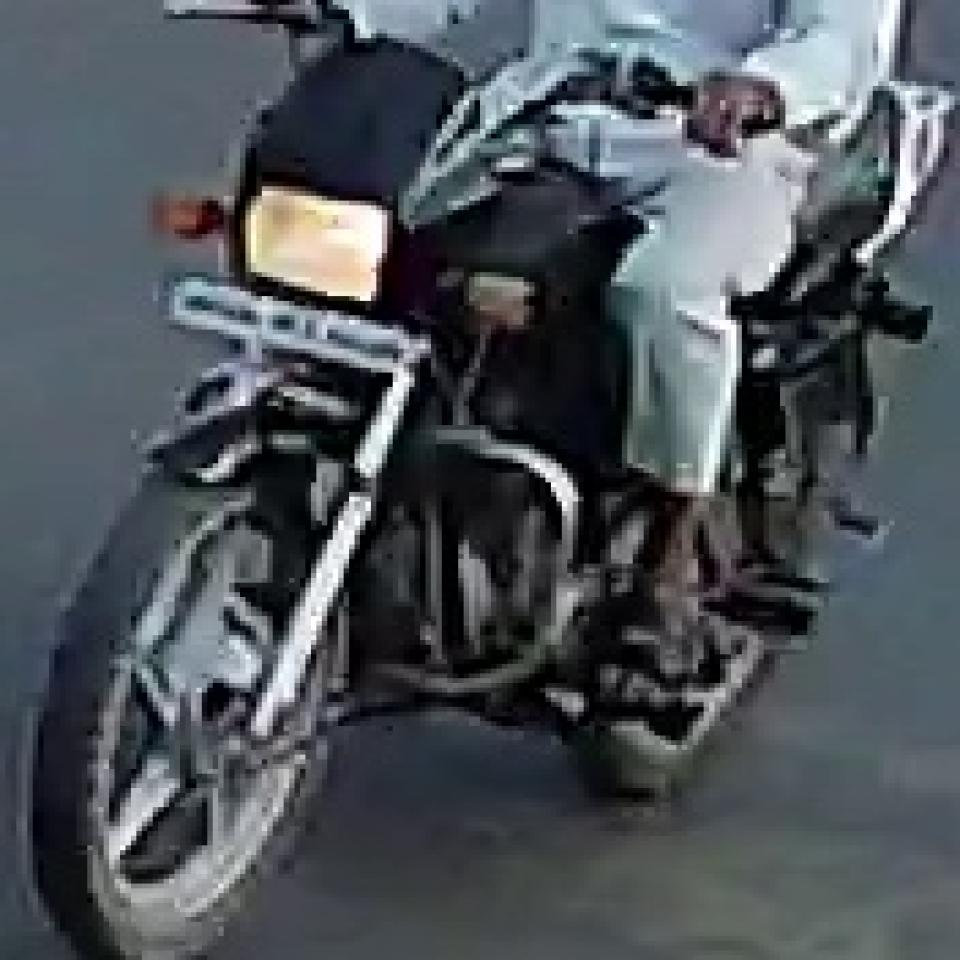head_light: (223, 186, 416, 303)
